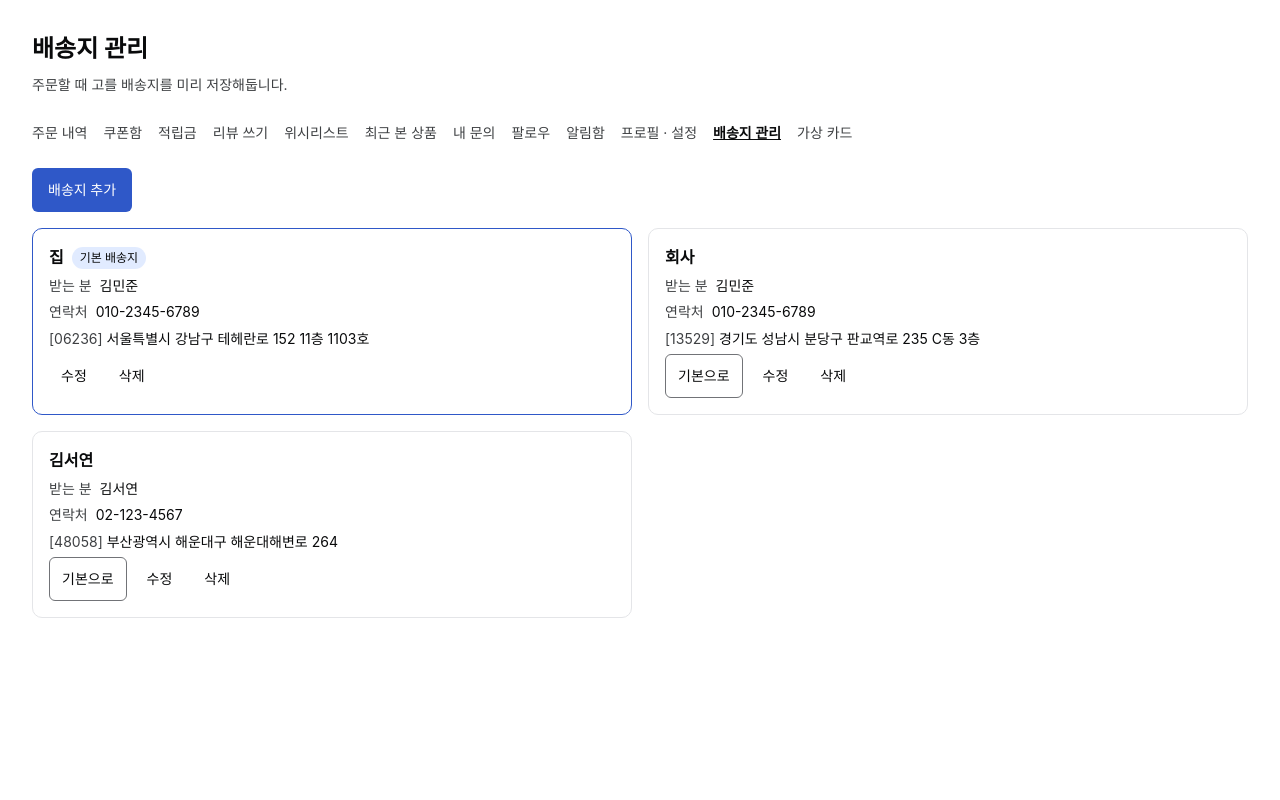
making another address the default (F4) › shows the 409 a lost race produces, with the list already corrected
This screenshot has width=1280, height=800.
Expected: the list named "저장한 배송지" is shown, [32,228,1248,618]
Click the button "기본으로" below "13529" at (704, 376), box [665,354,742,398]
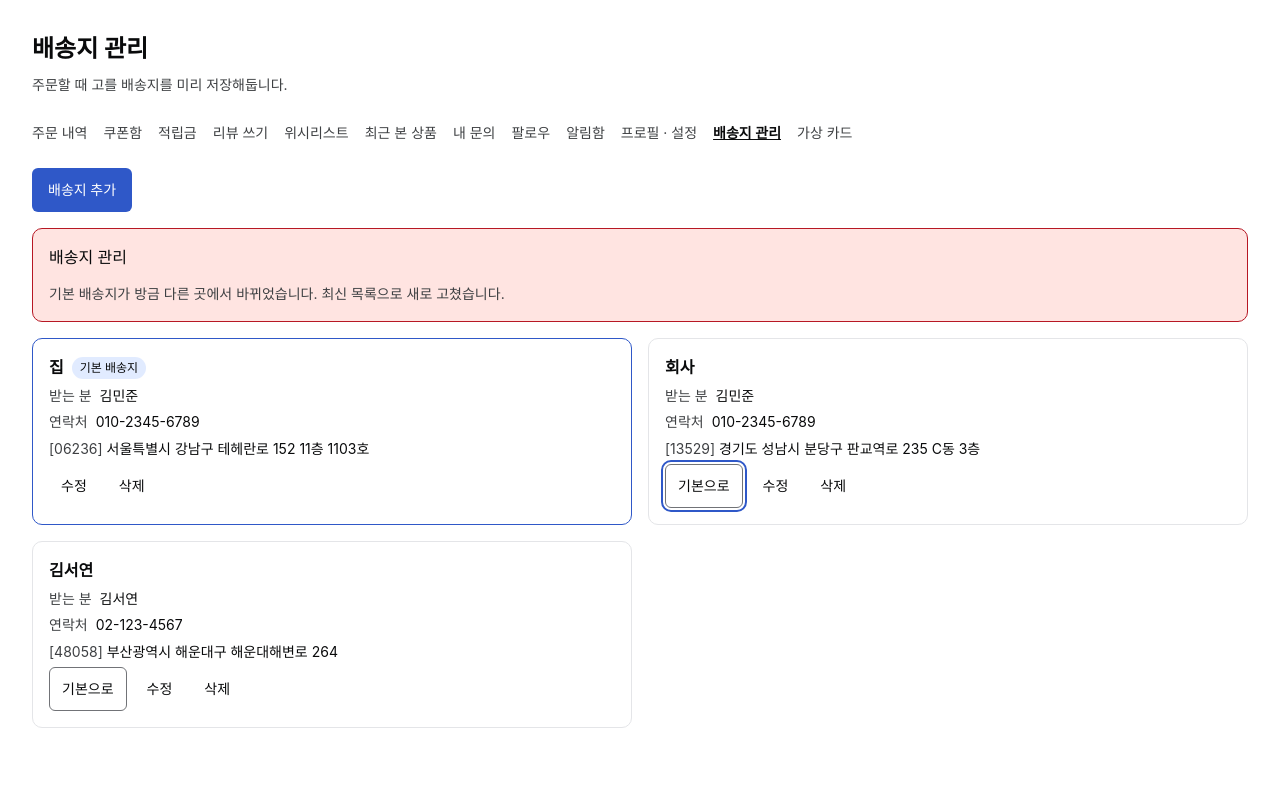
Expected: the heading "집" is shown, [49,355,64,381]
Now the text "기본 배송지가 방금 다른 곳에서 바뀌었습니다. 최신 목록으로 새로 고쳤습니다." is shown, box [49,285,505,302]
